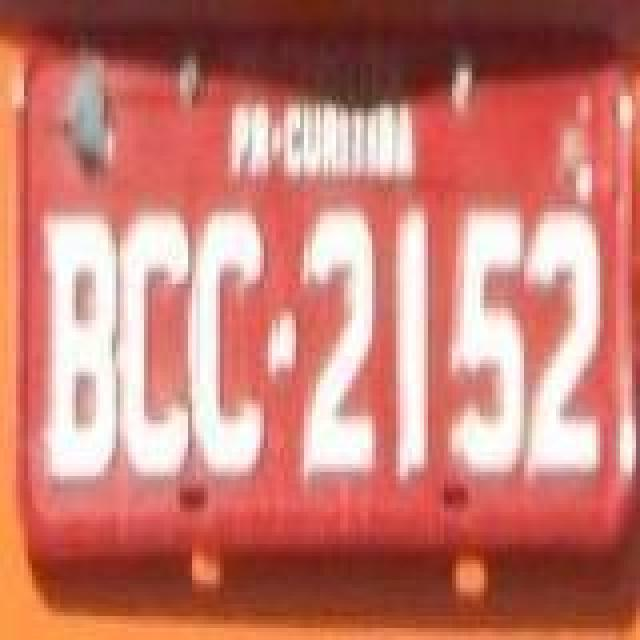1: (394, 202, 430, 486)
2: (530, 204, 606, 484), (306, 206, 382, 482)
5: (448, 202, 528, 486)
B: (40, 206, 120, 498)
C: (194, 204, 270, 484), (120, 204, 192, 484)
